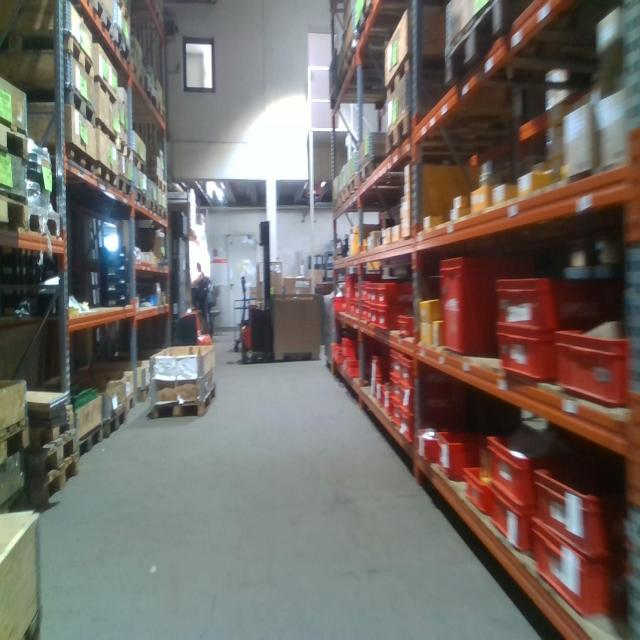pallet: (443, 6, 546, 89), (2, 34, 95, 75), (16, 88, 96, 128), (386, 107, 446, 157), (386, 50, 448, 96), (148, 384, 218, 421), (31, 429, 78, 479), (35, 142, 96, 177), (36, 461, 80, 509), (34, 407, 76, 452), (1, 182, 32, 236), (0, 414, 30, 464), (75, 0, 114, 38), (0, 114, 30, 160), (31, 205, 63, 239), (89, 160, 118, 194), (20, 597, 44, 636), (103, 406, 128, 443), (79, 421, 104, 457), (92, 75, 115, 113), (357, 159, 390, 185), (122, 58, 146, 92), (95, 115, 118, 150), (113, 24, 131, 63), (126, 147, 146, 176), (148, 174, 170, 196), (129, 186, 148, 211), (114, 133, 130, 158), (117, 175, 133, 199), (139, 200, 159, 217), (121, 393, 135, 416), (339, 187, 347, 210), (157, 209, 170, 223), (350, 177, 357, 202)
pallet_truck: (169, 201, 218, 348), (236, 219, 275, 361)
small_load_carrier: (534, 463, 630, 566), (538, 519, 625, 618), (493, 262, 612, 332), (483, 425, 559, 513), (440, 257, 507, 355), (557, 328, 629, 406), (492, 321, 559, 387), (400, 407, 483, 448), (434, 428, 494, 480), (485, 488, 532, 551), (400, 354, 464, 396), (400, 382, 471, 414), (464, 458, 502, 515), (346, 349, 379, 382), (376, 281, 419, 305), (419, 428, 446, 465), (379, 306, 407, 330), (370, 351, 386, 379), (390, 398, 403, 431), (397, 311, 416, 333), (388, 374, 402, 403), (389, 348, 399, 375), (371, 305, 382, 329), (383, 384, 391, 414), (374, 384, 384, 408), (371, 284, 379, 309), (366, 304, 374, 325), (366, 283, 372, 306), (362, 305, 368, 325)
stillage: (320, 294, 332, 374)
